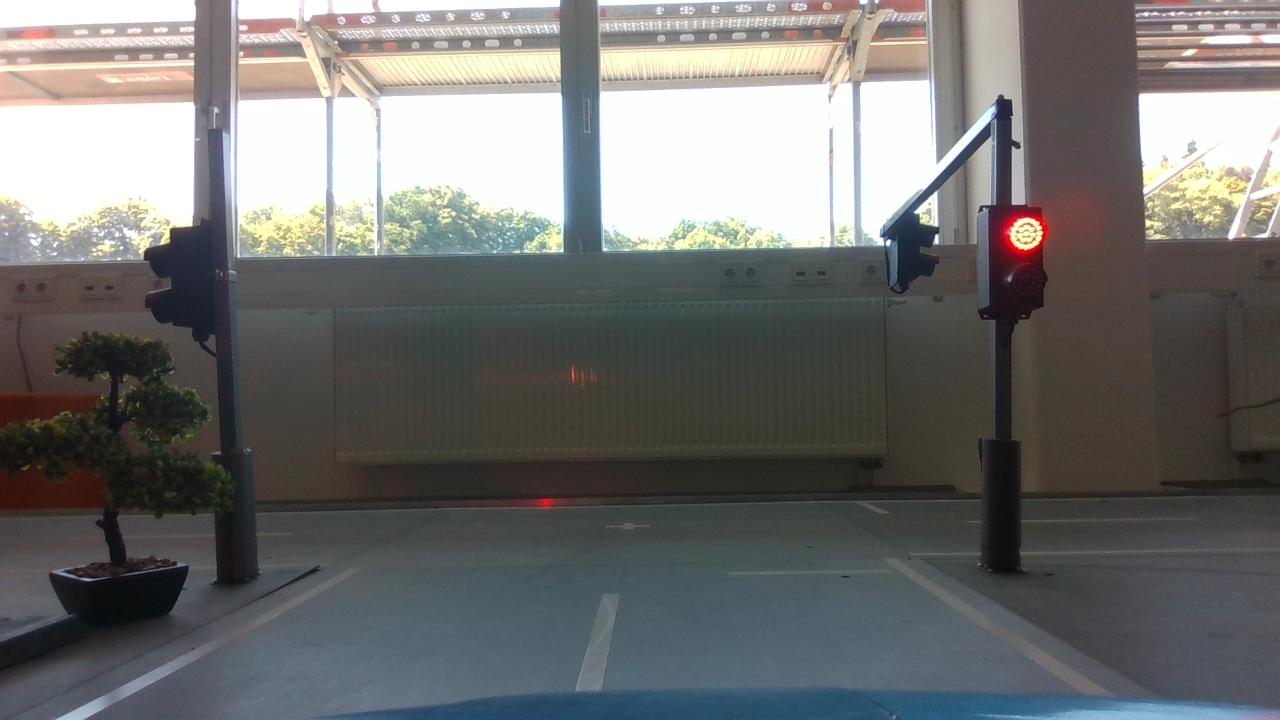traffic_light_red: (959, 186, 1076, 343)
